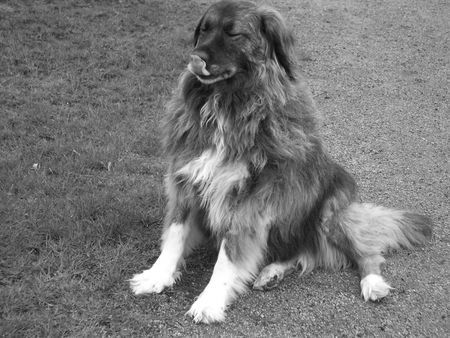cau_ovcharka: (127, 0, 432, 325)
